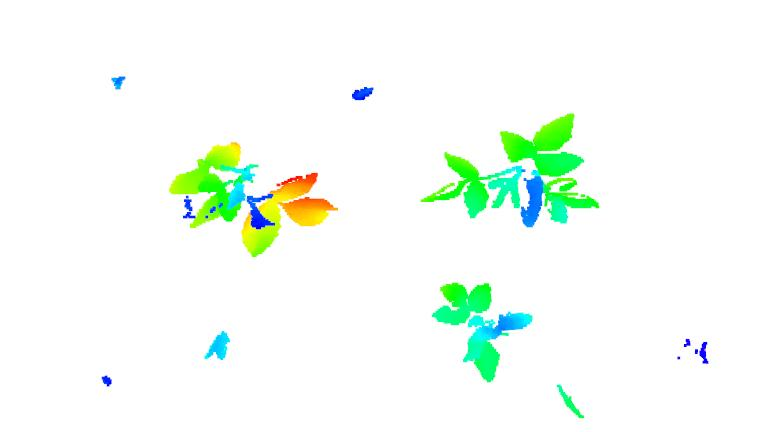mungbean: (170, 137, 336, 259), (430, 110, 594, 228), (434, 274, 531, 386)
